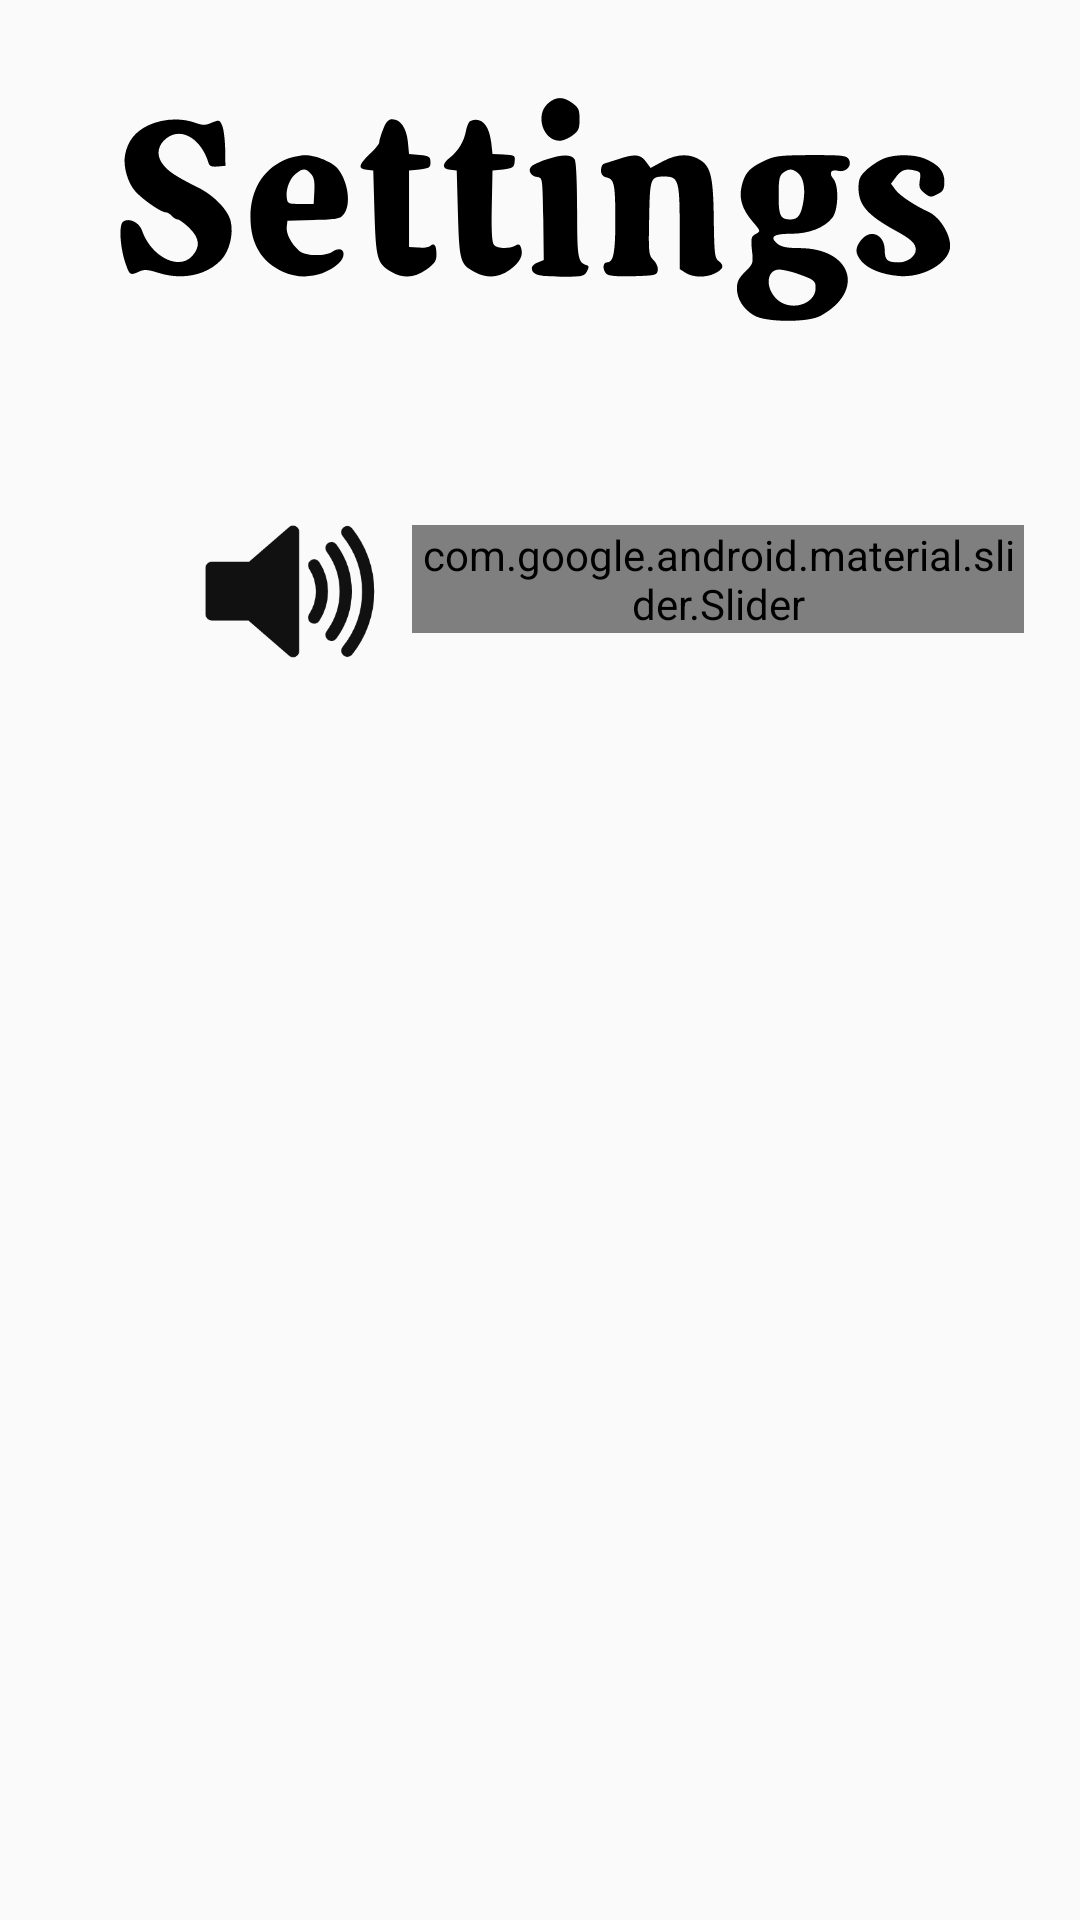

Screen size 1080px×1920px. Icon name, then its center in pixels as (x=x, y=y):
speaker: (x=290, y=591)
